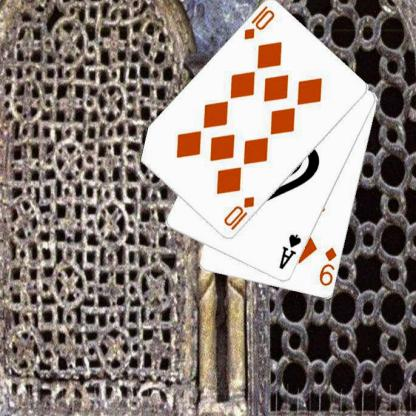10D: (241, 3, 276, 42), (221, 194, 256, 232)
9D: (316, 245, 338, 288)
AS: (276, 232, 302, 271)
